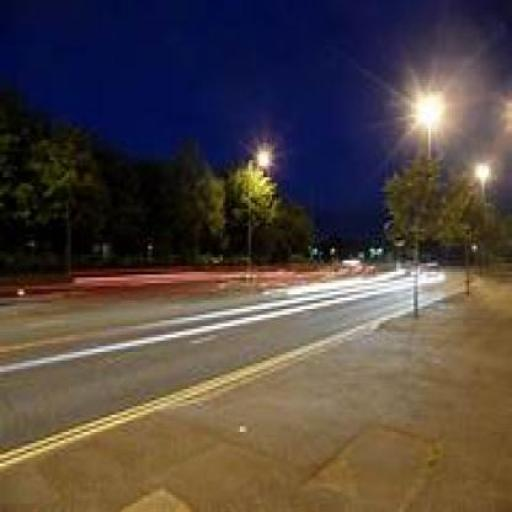street light: (418, 97, 436, 269), (249, 149, 270, 275), (475, 164, 488, 270)
